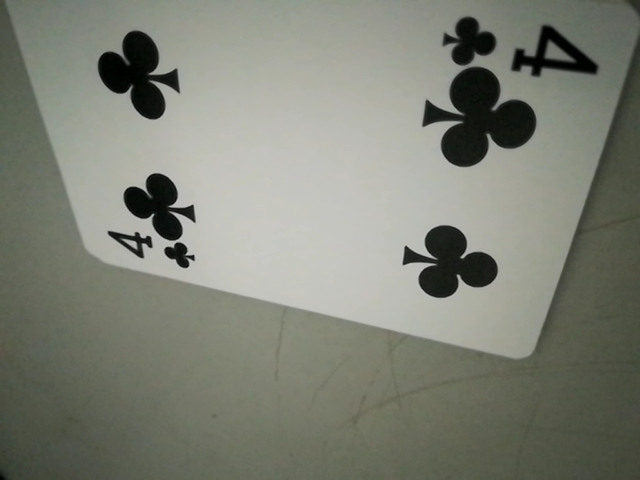mh 4: (438, 9, 598, 75), (99, 225, 202, 272)
